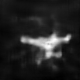plane: (20, 30, 73, 63)
